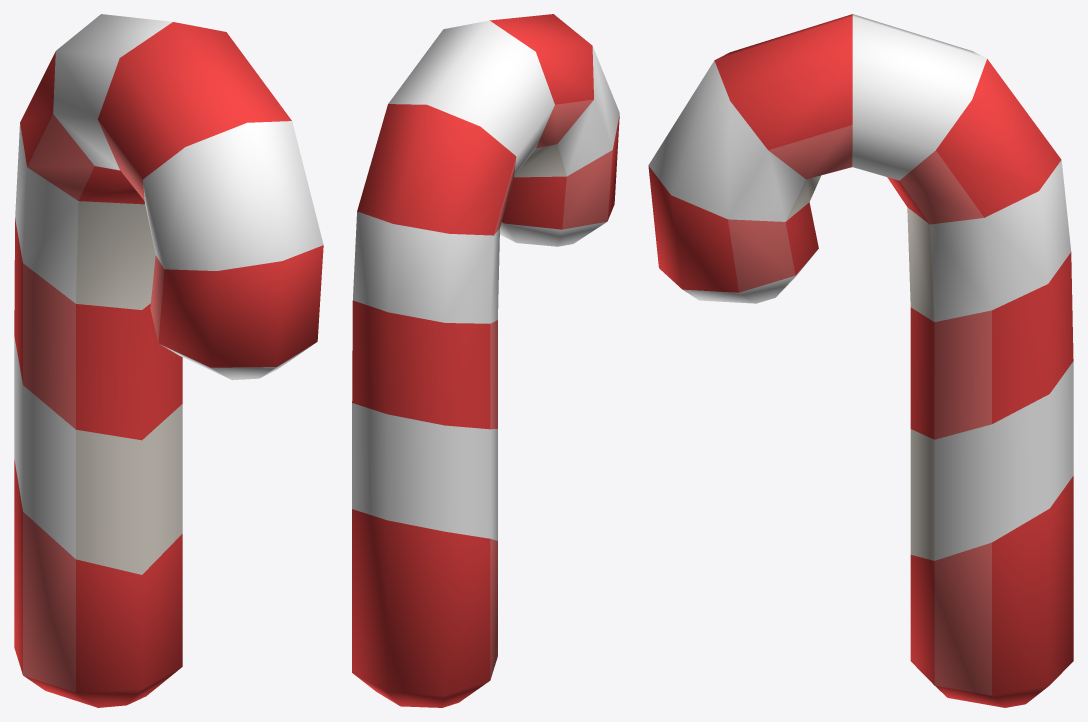
Rendered from Lollipop.fbx.
3 views of the same model, side by side, from view 1: azimuth 30°, elevation 25°; view 2: azimuth 150°, elevation 25°; view 3: azimuth 270°, elevation 25° (orthographic). The views are drawn at different scales.
Parts seen in each view (by area): view 1: Lollipop; view 2: Lollipop; view 3: Lollipop.
Part boxes in pixels (<box>): Lollipop: <box>14,14,323,707</box>; Lollipop: <box>352,14,619,707</box>; Lollipop: <box>648,14,1073,707</box>.
Size of the model in its own units: 0.5172 by 2.35 by 1.35.
